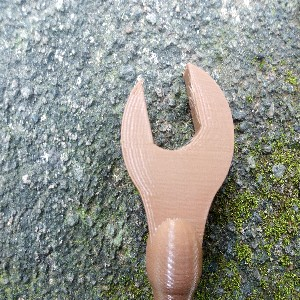spanner: (120, 62, 235, 300)
